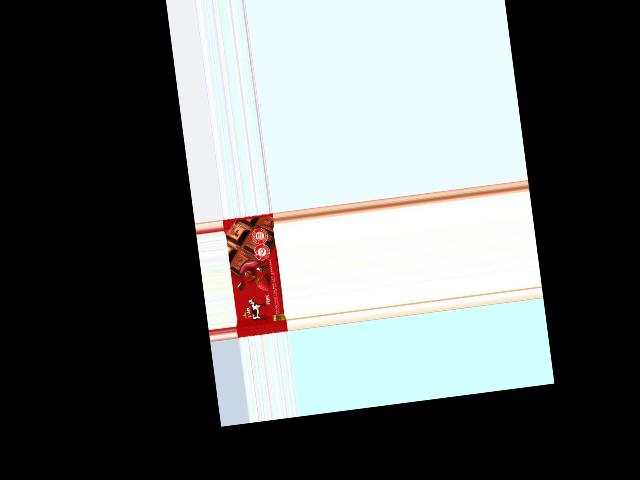chocolate: (222, 213, 288, 338)
